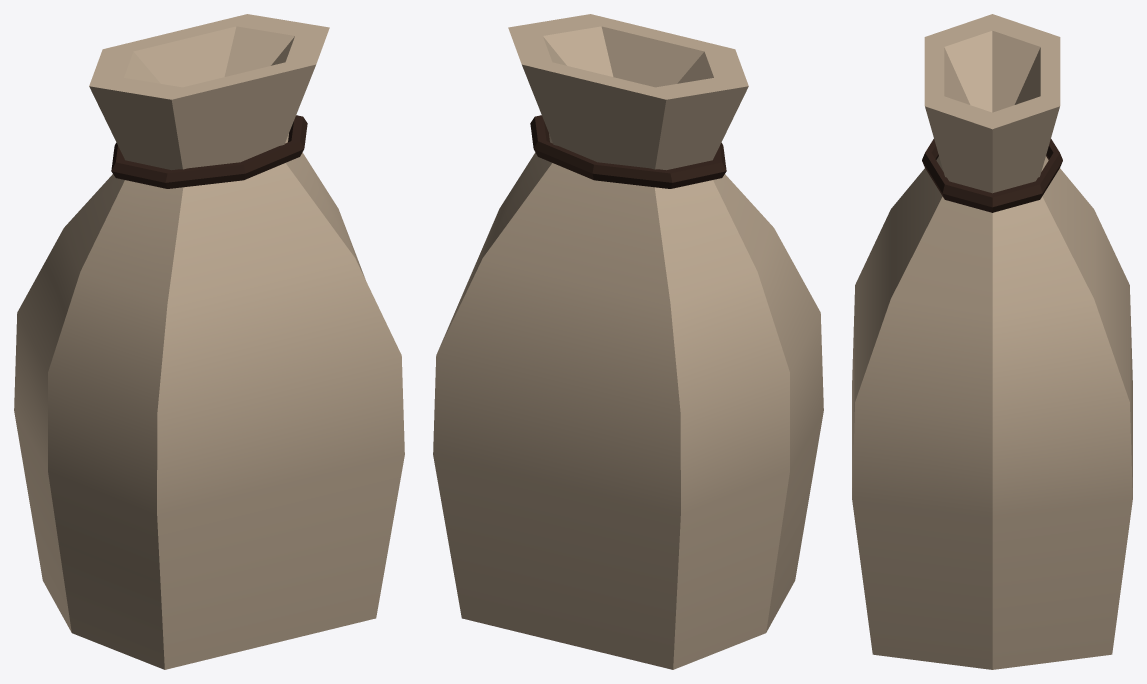
Rendered from Saco.fbx.
3 views of the same model, side by side, from view 1: azimuth 30°, elevation 25°; view 2: azimuth 150°, elevation 25°; view 3: azimuth 270°, elevation 25° (orthographic).
Parts seen in each view (by area): view 1: Saco; view 2: Saco; view 3: Saco.
Part boxes in pixels (<box>): Saco: <box>14,14,404,669</box>; Saco: <box>433,14,823,669</box>; Saco: <box>852,14,1132,669</box>.
Bounding box in the file's own units: 0.7971 × 1.28 × 0.6109.
